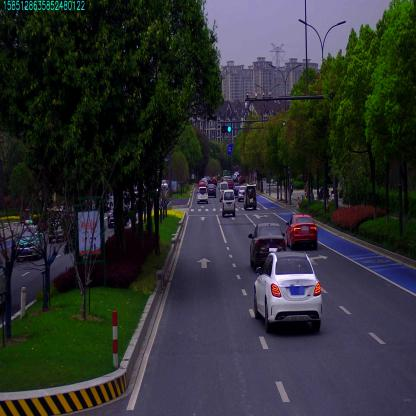traffic-light: (220, 126, 231, 134)
